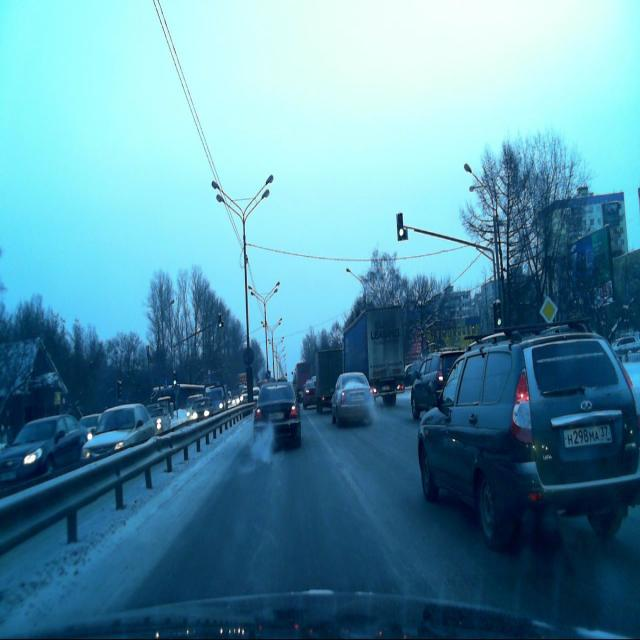road sign: (540, 296, 558, 324)
